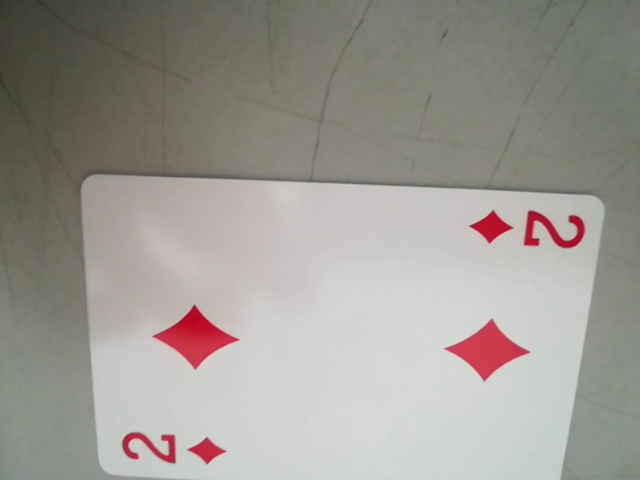fk 2: (115, 420, 242, 477), (465, 202, 588, 259)
